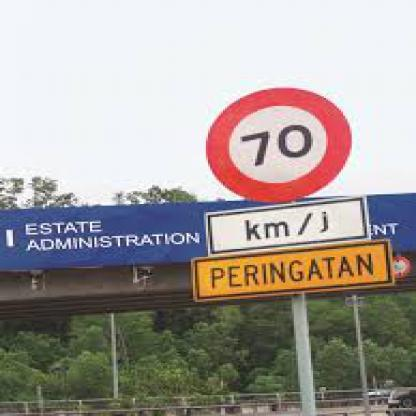Speed Limit 70: (209, 87, 351, 198)
